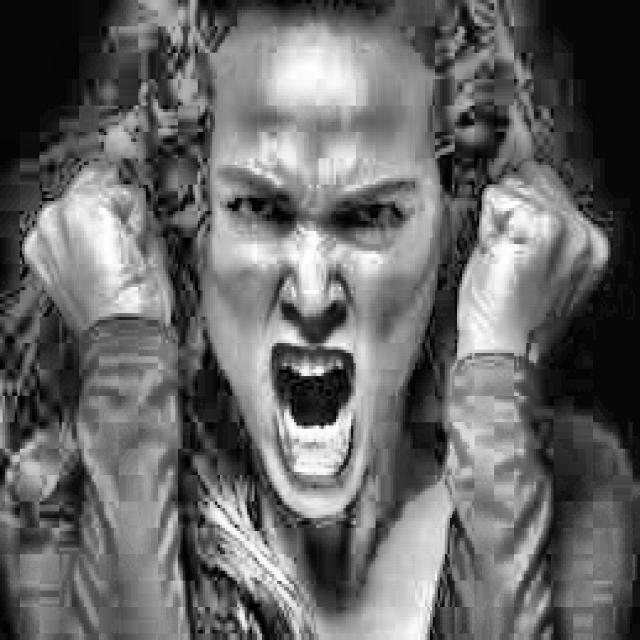angry: (150, 2, 492, 527)
